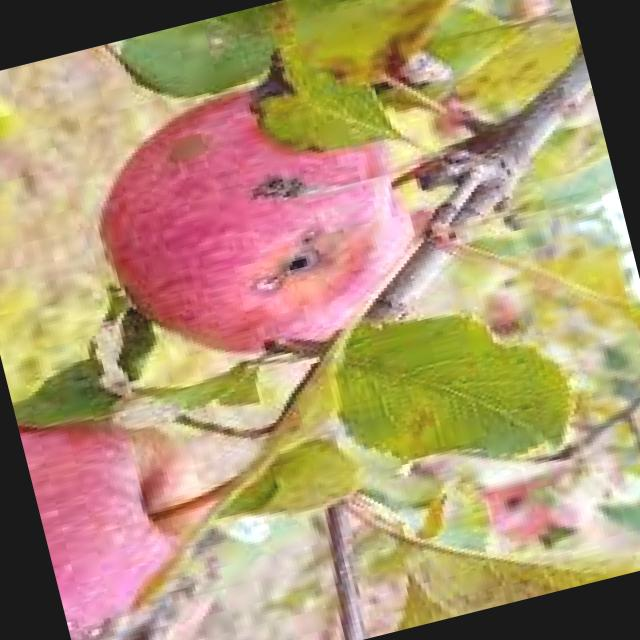Red Apple: (19, 397, 219, 638)
Rotten Apple: (86, 59, 428, 381)
